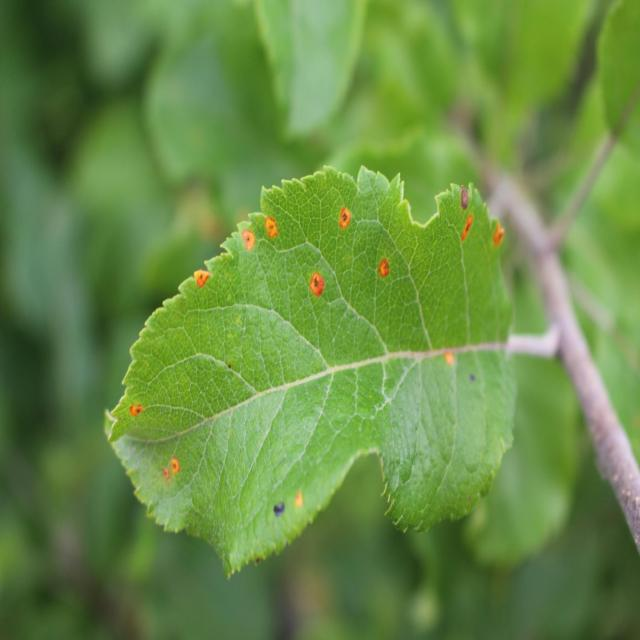Rust: (422, 332, 470, 378), (226, 208, 263, 266), (152, 446, 191, 488), (251, 209, 289, 246), (300, 268, 334, 306), (456, 211, 482, 260), (126, 385, 152, 430), (194, 254, 215, 300), (490, 220, 514, 258), (333, 200, 357, 232), (374, 254, 400, 282), (286, 483, 307, 505), (456, 180, 470, 211)
